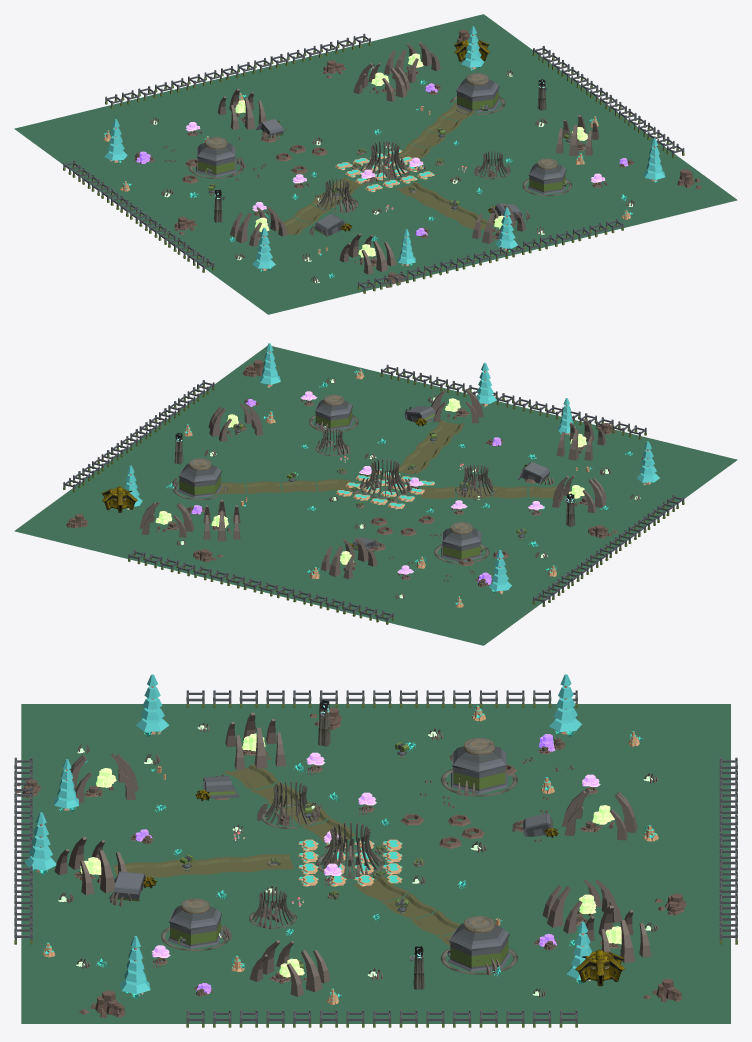
File: verdant.glb
The picture shows the model from 3 angles, top to bottom: view 1: azimuth 30°, elevation 25°; view 2: azimuth 150°, elevation 25°; view 3: azimuth 270°, elevation 25°; orthographic projection. The views are drawn at different scales.
Parts seen in each view (by area): view 1: ground_grass (×62), GroveTree_G__bones, GroveTree_A__bones, GroveTree_D__bones, GroveTree_F__bones, GroveTree_C__bones, GroveTree_B__bones, SeedVaultArch__mesh_51_Mesh_tall_arch_subset_0, GroveTree_E__bones, StationGate__mesh_51_Mesh_tall_arch_subset_0, Pine_A__Mesh_tree_pineRoundA_1, Pine_D__Mesh_tree_pineRoundA_1 (+3 smaller); view 2: ground_grass (×58), GroveTree_C__bones, GroveTree_G__bones, GroveTree_B__bones, GroveTree_A__bones, SeedVaultArch__mesh_51_Mesh_tall_arch_subset_0, GroveTree_D__bones, GroveTree_F__bones, GroveTree_E__bones, mesh_49_Mesh_uav_subset_0, StationGate__mesh_51_Mesh_tall_arch_subset_0, Pine_A__Mesh_tree_pineRoundA_1 (+2 smaller); view 3: ground_grass (×191), Mesh_ground_pathStraight_2 (×4), GroveTree_B__bones, GroveTree_E__bones, GroveTree_D__bones, GroveTree_A__bones, GroveTree_F__bones, SeedVaultArch__mesh_51_Mesh_tall_arch_subset_0, GroveTree_C__bones, GroveTree_G__bones, mesh_49_Mesh_uav_subset_0, Pine_A__Mesh_tree_pineRoundA_1 (+15 smaller).
Boxes of the visible parts, <box> form: ground_grass (×62): <box>14,28,737,314</box>; GroveTree_G__bones: <box>339,233,396,274</box>; GroveTree_A__bones: <box>230,206,287,246</box>; GroveTree_D__bones: <box>353,63,410,101</box>; GroveTree_F__bones: <box>384,42,440,82</box>; GroveTree_C__bones: <box>217,88,266,129</box>; GroveTree_B__bones: <box>555,115,599,156</box>; SeedVaultArch__mesh_51_Mesh_tall_arch_subset_0: <box>365,141,405,180</box>; GroveTree_E__bones: <box>472,204,525,243</box>; StationGate__mesh_51_Mesh_tall_arch_subset_0: <box>319,178,355,211</box>; Pine_A__Mesh_tree_pineRoundA_1: <box>252,227,275,268</box>; Pine_D__Mesh_tree_pineRoundA_1: <box>461,26,484,67</box>; ground_grass (×58): <box>14,352,737,645</box>; GroveTree_C__bones: <box>321,538,377,579</box>; GroveTree_G__bones: <box>556,419,606,460</box>; GroveTree_B__bones: <box>208,403,263,441</box>; GroveTree_A__bones: <box>552,475,606,512</box>; SeedVaultArch__mesh_51_Mesh_tall_arch_subset_0: <box>364,458,404,497</box>; GroveTree_D__bones: <box>203,499,240,541</box>; GroveTree_F__bones: <box>139,501,194,537</box>; GroveTree_E__bones: <box>431,389,483,423</box>; mesh_49_Mesh_uav_subset_0: <box>101,487,137,512</box>; StationGate__mesh_51_Mesh_tall_arch_subset_0: <box>458,464,493,496</box>; Pine_A__Mesh_tree_pineRoundA_1: <box>636,441,659,482</box>; ground_grass (×191): <box>21,704,730,1023</box>; Mesh_ground_pathStraight_2 (×4): <box>200,764,460,935</box>; GroveTree_B__bones: <box>249,940,330,996</box>; GroveTree_E__bones: <box>54,836,127,895</box>; GroveTree_D__bones: <box>542,879,621,933</box>; GroveTree_A__bones: <box>225,712,286,769</box>; GroveTree_F__bones: <box>585,905,651,963</box>; SeedVaultArch__mesh_51_Mesh_tall_arch_subset_0: <box>320,821,380,876</box>; GroveTree_C__bones: <box>561,789,637,840</box>; GroveTree_G__bones: <box>70,753,138,803</box>; mesh_49_Mesh_uav_subset_0: <box>575,950,624,986</box>; Pine_A__Mesh_tree_pineRoundA_1: <box>136,674,169,731</box>.
Bounding box in the file's own units: 180 × 16.44 × 168.
Materials: 221 (10 with a texture image).
